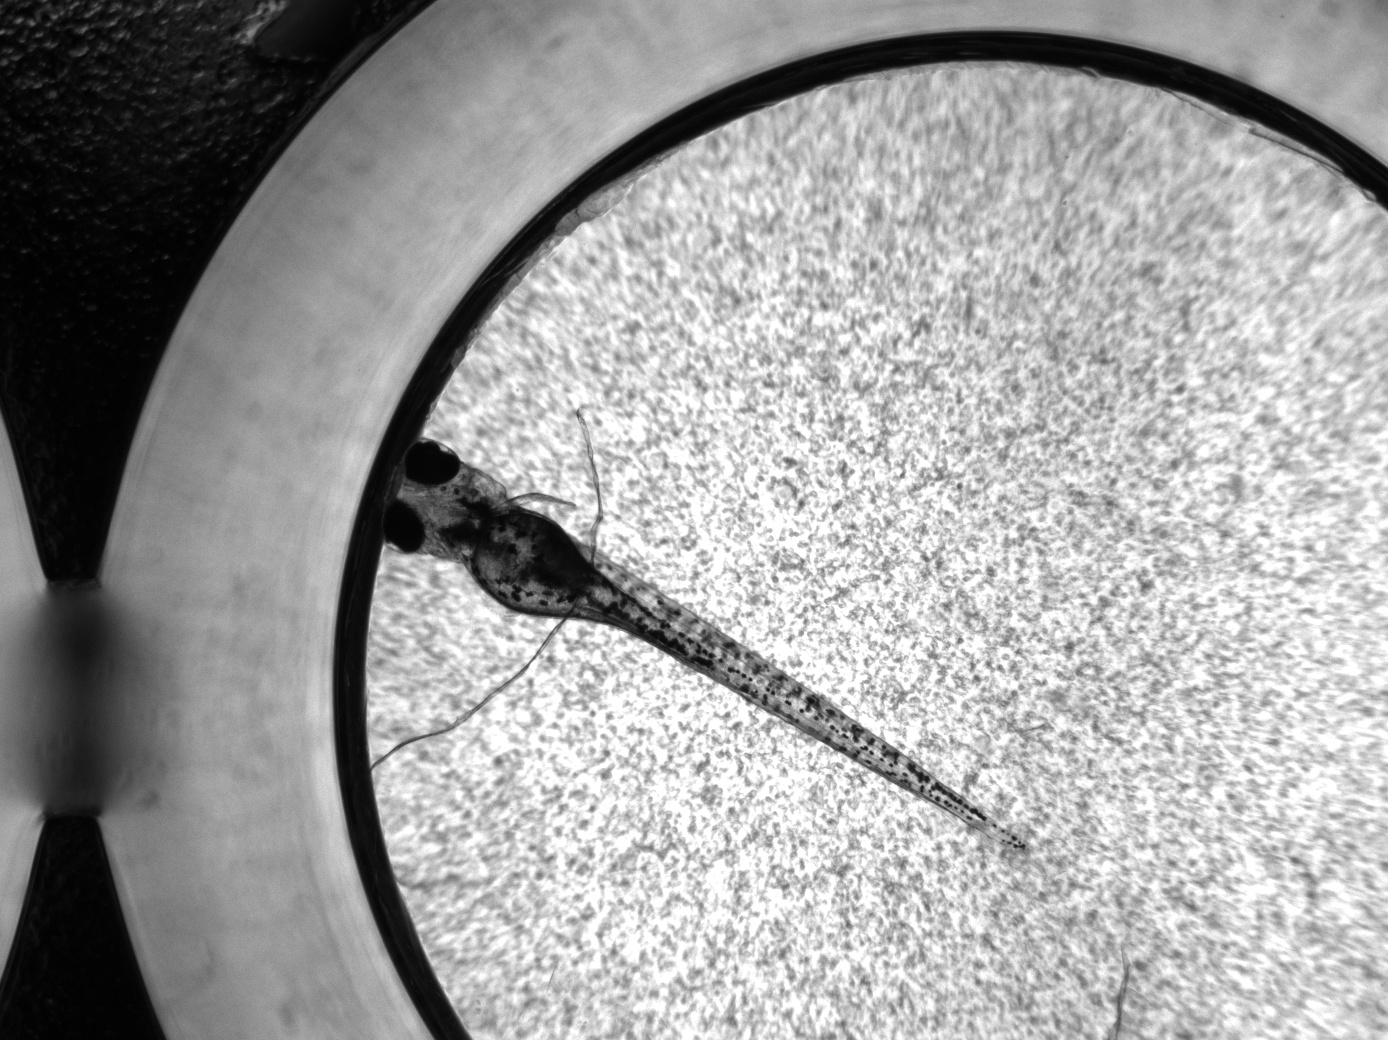embryo: (378, 439, 1027, 851)
eye: (401, 440, 459, 487), (380, 499, 424, 553)
yolksac: (472, 510, 585, 619)
